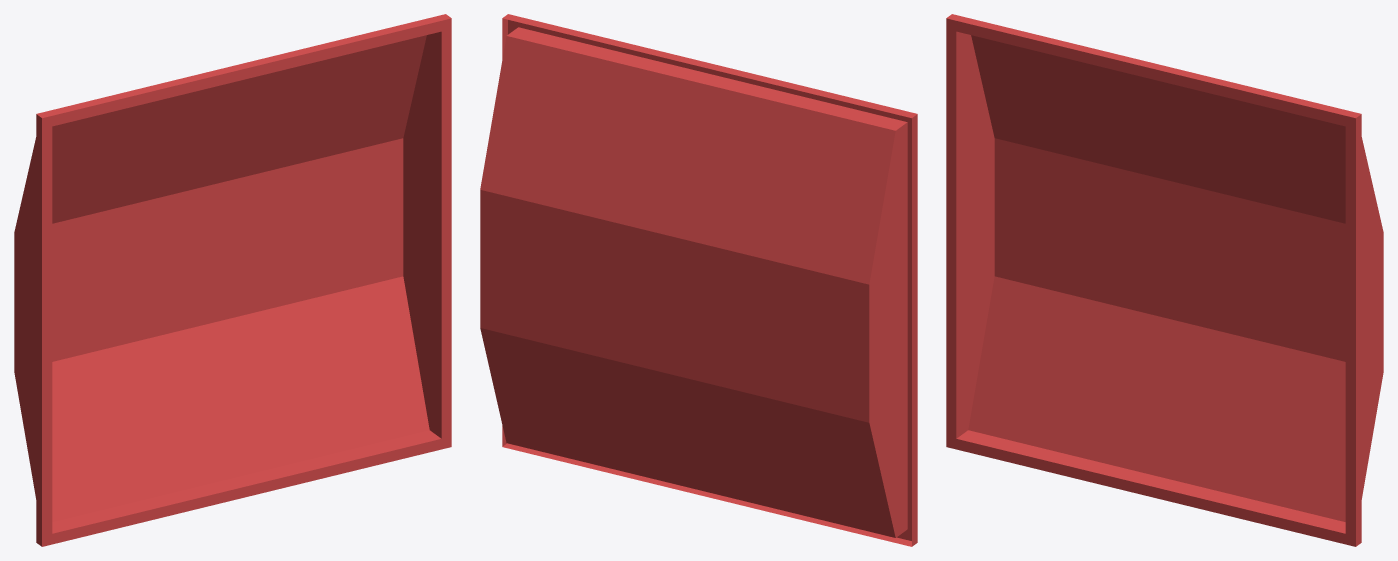
Rendered from Wall_A_4x4m.FBX.
3 views of the same model, side by side, from view 1: azimuth 30°, elevation 25°; view 2: azimuth 150°, elevation 25°; view 3: azimuth 330°, elevation 25° (orthographic).
Parts seen in each view (by area): view 1: Wall_A_4x4m; view 2: Wall_A_4x4m; view 3: Wall_A_4x4m.
Boxes of the visible parts, <box> form: Wall_A_4x4m: <box>14,14,451,546</box>; Wall_A_4x4m: <box>480,14,917,546</box>; Wall_A_4x4m: <box>946,14,1383,546</box>.
Bounding box in the file's own units: 400 × 400 × 64.57.
